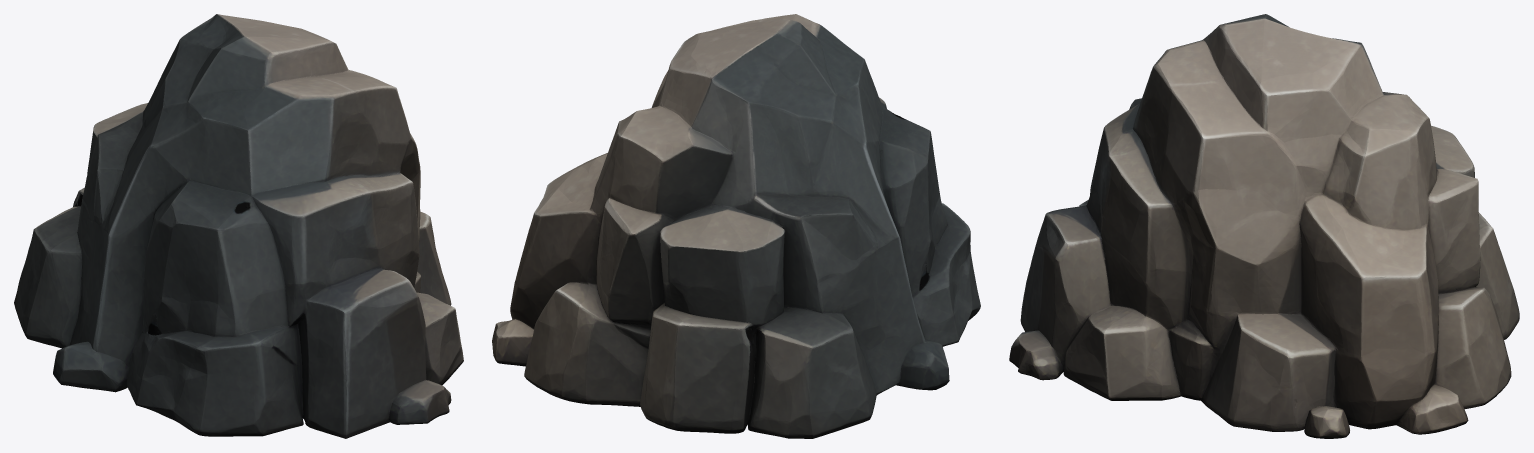
Rendered from ston_1.glb.
3 renders of one model, left to right at view 1: azimuth 30°, elevation 25°; view 2: azimuth 150°, elevation 25°; view 3: azimuth 270°, elevation 25°, orthographic. The views are drawn at different scales.
Parts seen in each view (by area): view 1: world; view 2: world; view 3: world.
Boxes of the visible parts, left/top/right/bottom form: world: left=14, top=14, right=463, bottom=438; world: left=492, top=14, right=980, bottom=438; world: left=1009, top=14, right=1519, bottom=438.
Size of the model in its own units: 0.9268 by 0.6843 by 1.
1 material, 1 textured.
